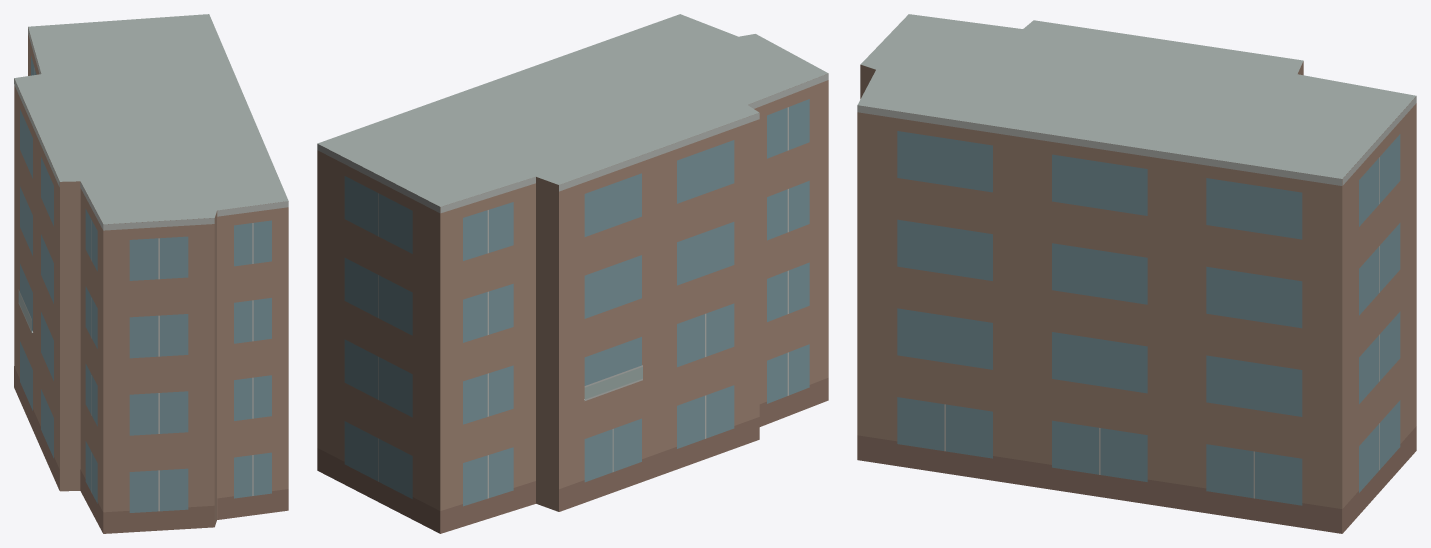
Rendered from survey-upis-32648902.glb.
3 views of the same model, side by side, from view 1: azimuth 30°, elevation 25°; view 2: azimuth 150°, elevation 25°; view 3: azimuth 270°, elevation 25° (orthographic). The views are drawn at different scales.
Visible parts, largest first — view 1: survey-upis-32648902.tmp; view 2: survey-upis-32648902.tmp; view 3: survey-upis-32648902.tmp.
Boxes of the visible parts, box(x1,y1,x2,y2) form: survey-upis-32648902.tmp: box(14, 14, 288, 533); survey-upis-32648902.tmp: box(317, 14, 828, 533); survey-upis-32648902.tmp: box(857, 14, 1416, 533).
Bounding box in the file's own units: 12.18 × 12.2 × 17.43.
